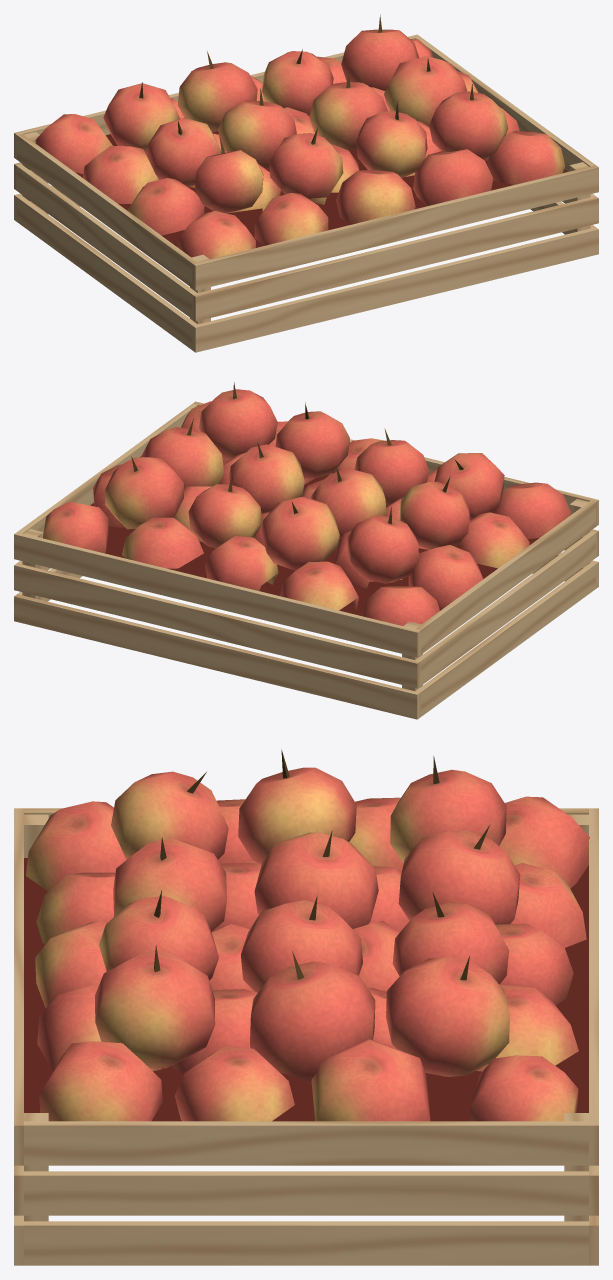
File: Prop_FruitCrateL_Peach.fbx
The picture shows the model from 3 angles, top to bottom: view 1: azimuth 30°, elevation 25°; view 2: azimuth 150°, elevation 25°; view 3: azimuth 270°, elevation 25°; orthographic projection. The views are drawn at different scales.
Parts seen in each view (by area): view 1: Prop_FruitCrateL_Peach_LOD0; view 2: Prop_FruitCrateL_Peach_LOD0; view 3: Prop_FruitCrateL_Peach_LOD0.
Boxes of the visible parts, x1,y1,x2,y2 form: Prop_FruitCrateL_Peach_LOD0: (14,14,598,352); Prop_FruitCrateL_Peach_LOD0: (14,382,598,719); Prop_FruitCrateL_Peach_LOD0: (14,750,598,1265).
Size of what is drawn, in the model's own units: 1.36 by 0.5137 by 1.06.
1 material, 1 textured.
